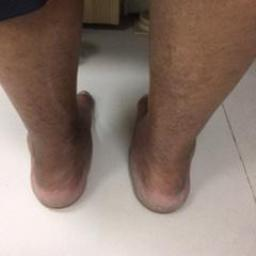Back View -Both Feet-: (4, 72, 230, 232)
